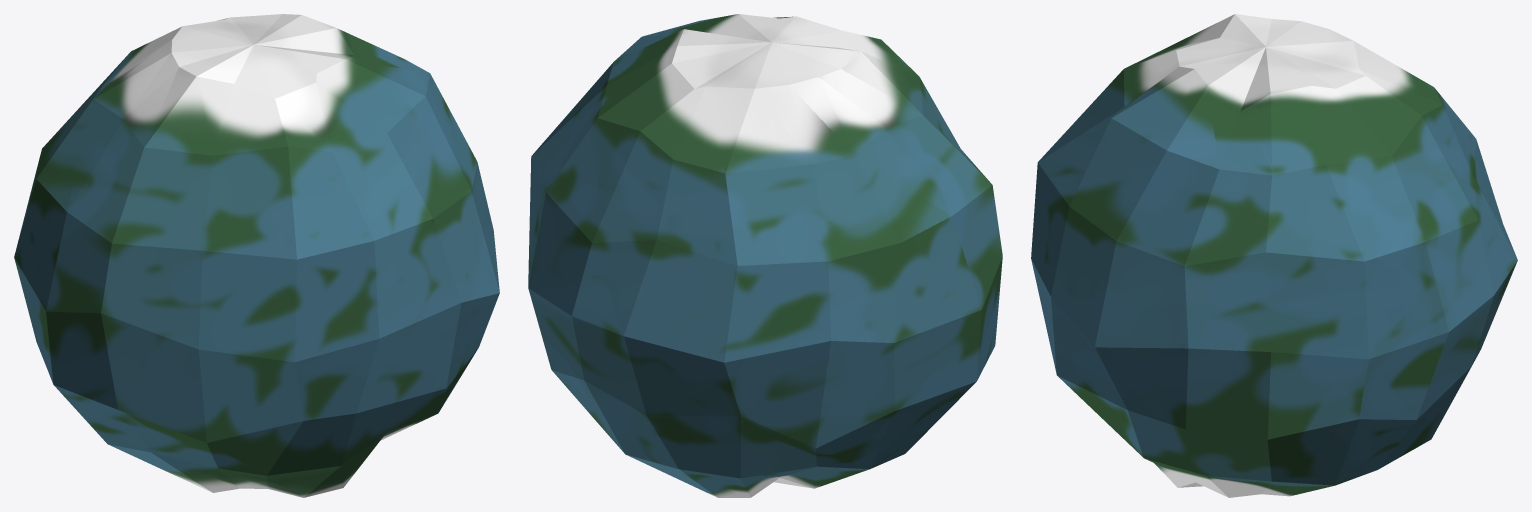
File: planet.glb
The picture shows the model from 3 angles, left to right: view 1: azimuth 30°, elevation 25°; view 2: azimuth 150°, elevation 25°; view 3: azimuth 270°, elevation 25°; orthographic projection.
Visible parts, largest first — view 1: Sphere; view 2: Sphere; view 3: Sphere.
Boxes of the visible parts, x1=… form: Sphere: x1=14, y1=14, x2=499, y2=497; Sphere: x1=528, y1=14, x2=1002, y2=497; Sphere: x1=1031, y1=14, x2=1517, y2=497.
Size of the model in its own units: 2.03 by 2.02 by 2.04.
1 material, 1 textured.
